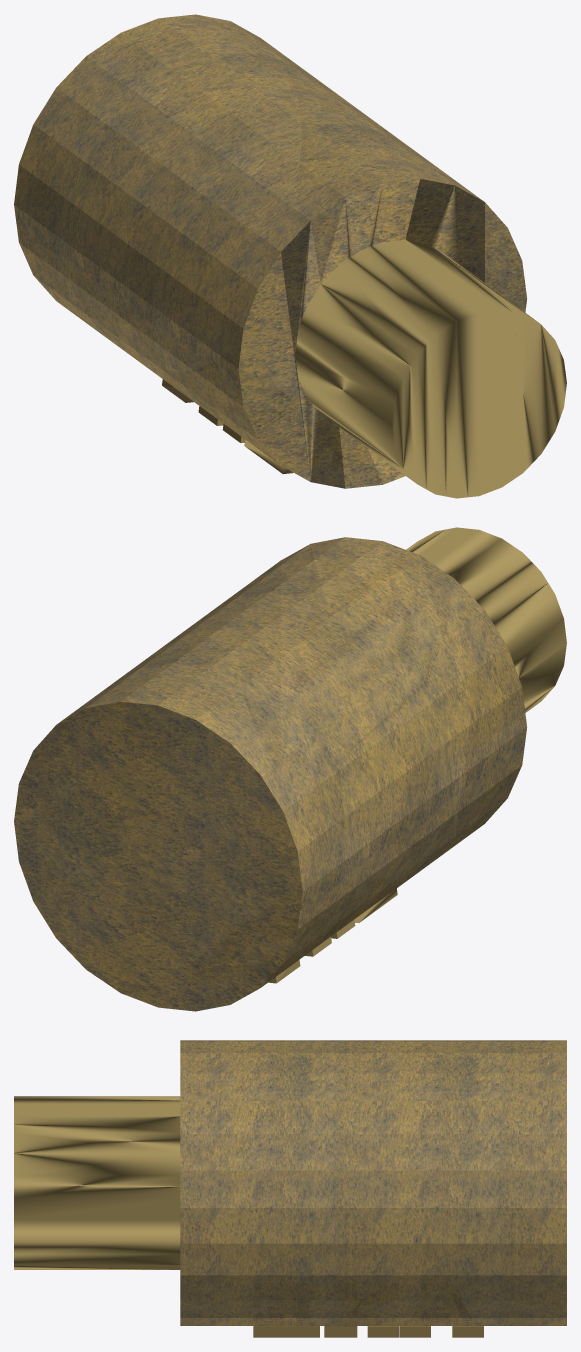
File: model_align.obj
3 views of the same model, one above another, from view 1: azimuth 30°, elevation 25°; view 2: azimuth 150°, elevation 25°; view 3: azimuth 270°, elevation 25° (orthographic). The views are drawn at different scales.
Bounding box in the file's own units: 0.0687 × 0.0727 × 0.1323.
